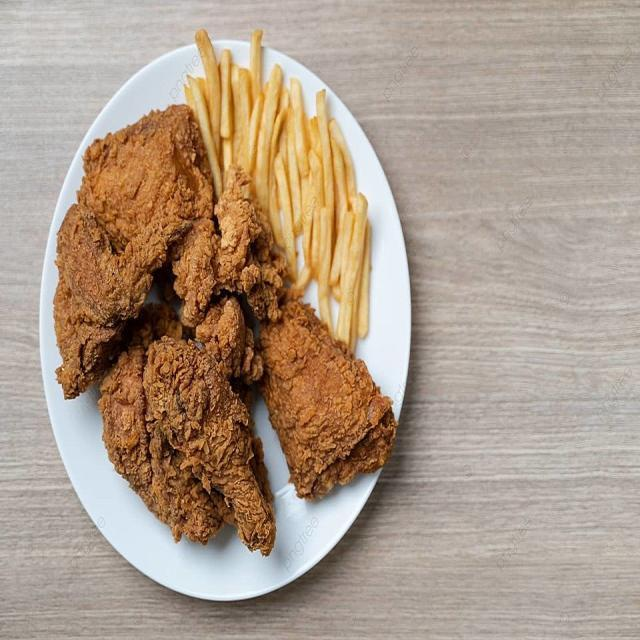ga ran va khoai tay chien: (54, 26, 414, 568)
khoai tay chien: (180, 26, 381, 356)
thit ga: (98, 306, 229, 554), (143, 329, 278, 559), (79, 103, 218, 303), (262, 309, 394, 490), (55, 203, 175, 402), (212, 169, 288, 336), (198, 302, 260, 384)
